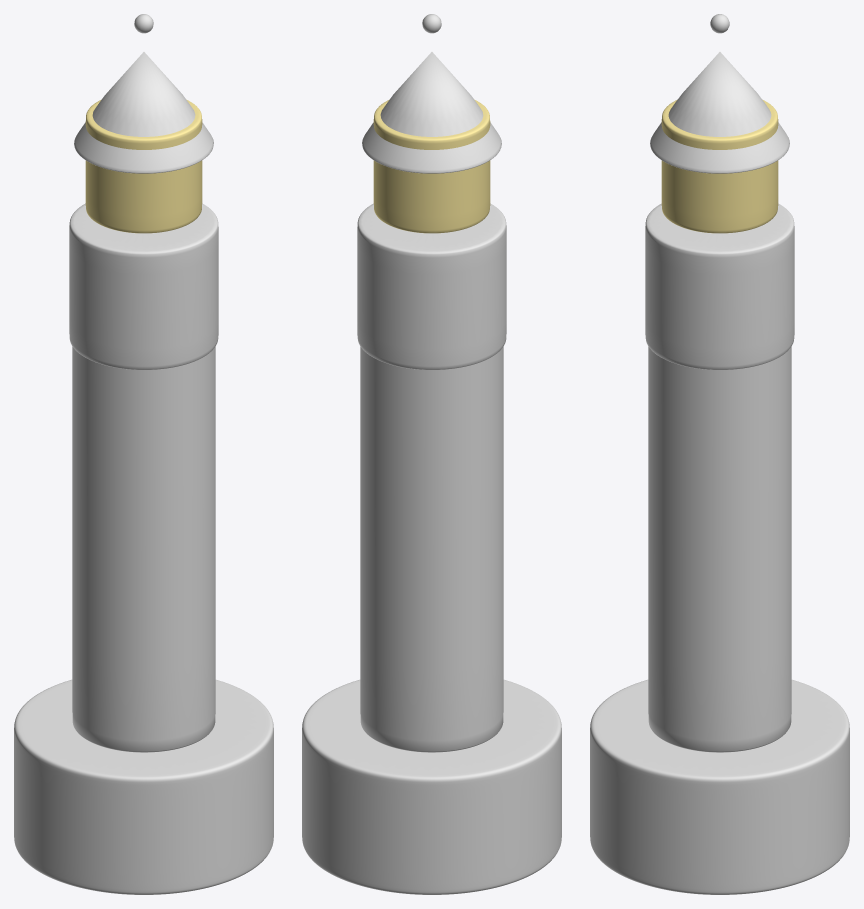
File: leuchtturm_premium_lod1.fbx
The picture shows the model from 3 angles, left to right: view 1: azimuth 30°, elevation 25°; view 2: azimuth 150°, elevation 25°; view 3: azimuth 270°, elevation 25°; orthographic projection.
Parts seen in each view (by area): view 1: Leuchtturm_Turm, Leuchtturm_Sockel, Leuchtturm_Ring_Weiss, Leuchtturm_Dach, Leuchtturm_Laterne; view 2: Leuchtturm_Turm, Leuchtturm_Sockel, Leuchtturm_Ring_Weiss, Leuchtturm_Dach, Leuchtturm_Laterne; view 3: Leuchtturm_Turm, Leuchtturm_Sockel, Leuchtturm_Ring_Weiss, Leuchtturm_Dach, Leuchtturm_Laterne.
Part boxes in pixels (<box>): Leuchtturm_Turm: <box>72,346,215,752</box>; Leuchtturm_Sockel: <box>14,679,273,894</box>; Leuchtturm_Ring_Weiss: <box>69,203,218,369</box>; Leuchtturm_Dach: <box>74,52,213,173</box>; Leuchtturm_Laterne: <box>85,99,202,233</box>; Leuchtturm_Turm: <box>360,346,503,752</box>; Leuchtturm_Sockel: <box>302,679,561,894</box>; Leuchtturm_Ring_Weiss: <box>357,203,506,369</box>; Leuchtturm_Dach: <box>362,52,501,173</box>; Leuchtturm_Laterne: <box>373,99,490,233</box>; Leuchtturm_Turm: <box>648,346,791,752</box>; Leuchtturm_Sockel: <box>590,679,849,894</box>; Leuchtturm_Ring_Weiss: <box>645,203,794,369</box>; Leuchtturm_Dach: <box>650,52,789,173</box>; Leuchtturm_Laterne: <box>661,100,778,233</box>.
Bounding box in the file's own units: 3.99 × 14 × 3.99.
